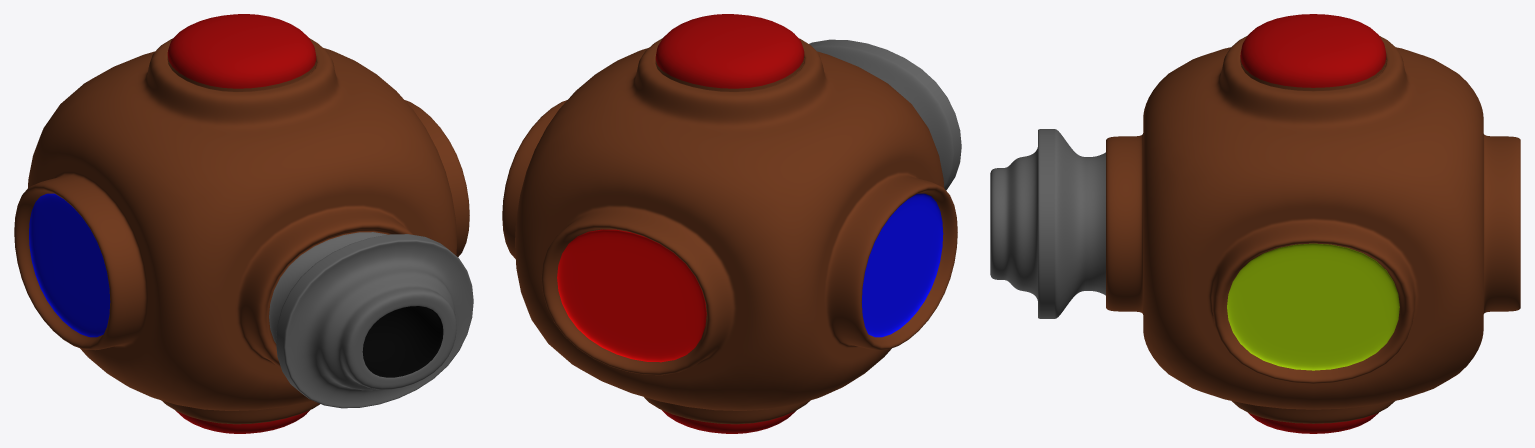
File: robot.obj
3 views of the same model, side by side, from view 1: azimuth 30°, elevation 25°; view 2: azimuth 150°, elevation 25°; view 3: azimuth 270°, elevation 25° (orthographic).
Parts seen in each view (by area): view 1: Cube_Cube.001; view 2: Cube_Cube.001; view 3: Cube_Cube.001.
Boxes of the visible parts, left/top/right/bottom form: Cube_Cube.001: left=14, top=14, right=473, bottom=433; Cube_Cube.001: left=502, top=14, right=961, bottom=433; Cube_Cube.001: left=990, top=14, right=1520, bottom=433.
Bounding box in the file's own units: 2.44 × 2.49 × 3.12.
